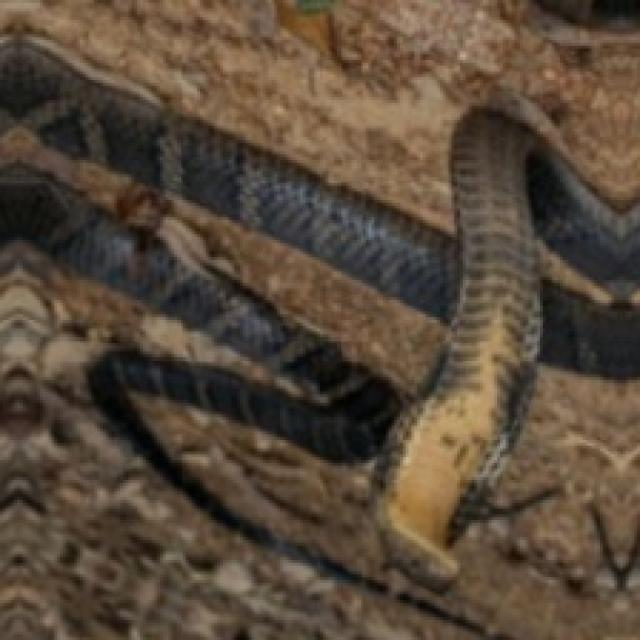king cobra: (0, 34, 637, 637), (3, 426, 131, 600), (137, 406, 277, 537), (100, 354, 303, 437), (134, 554, 200, 591)
